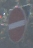No entry: (5, 5, 27, 42)
